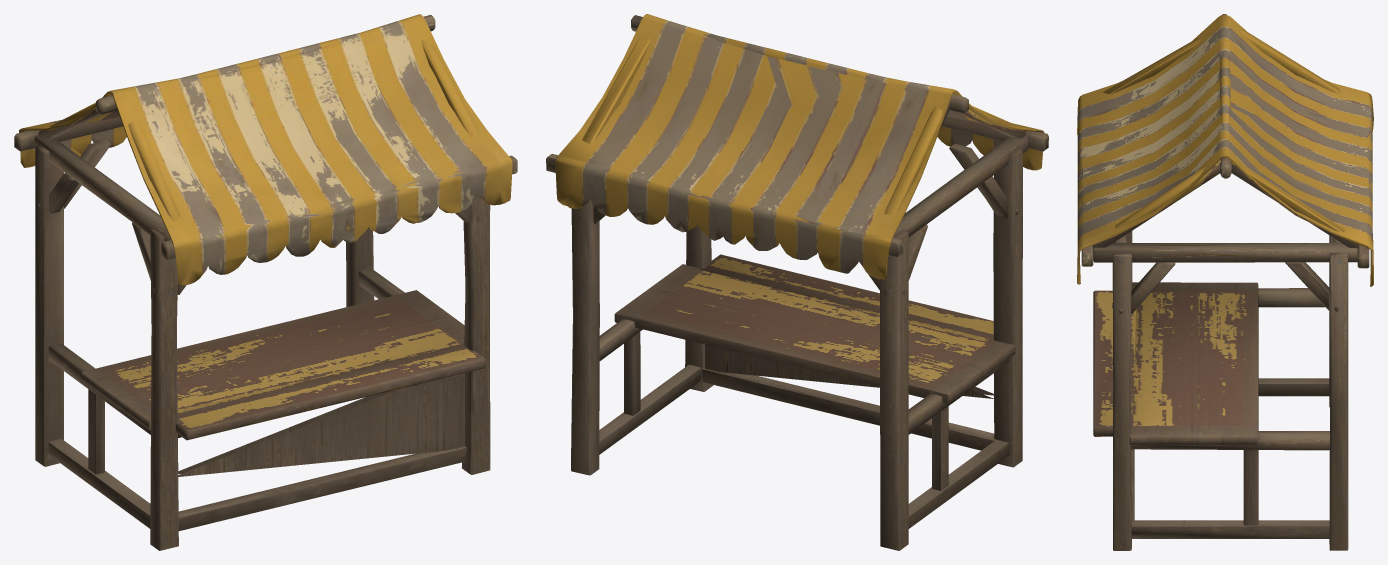
File: MarketStallOchre.glb
The picture shows the model from 3 angles, left to right: view 1: azimuth 30°, elevation 25°; view 2: azimuth 150°, elevation 25°; view 3: azimuth 270°, elevation 25°; orthographic projection. The views are drawn at different scales.
Parts seen in each view (by area): view 1: MarketStall; view 2: MarketStall; view 3: MarketStall.
Boxes of the visible parts, left/top/right/bottom form: MarketStall: left=14, top=14, right=517, bottom=550; MarketStall: left=546, top=14, right=1048, bottom=550; MarketStall: left=1077, top=14, right=1373, bottom=550.
Bounding box in the file's own units: 2.6 × 2.9 × 2.
1 material, 1 textured.
